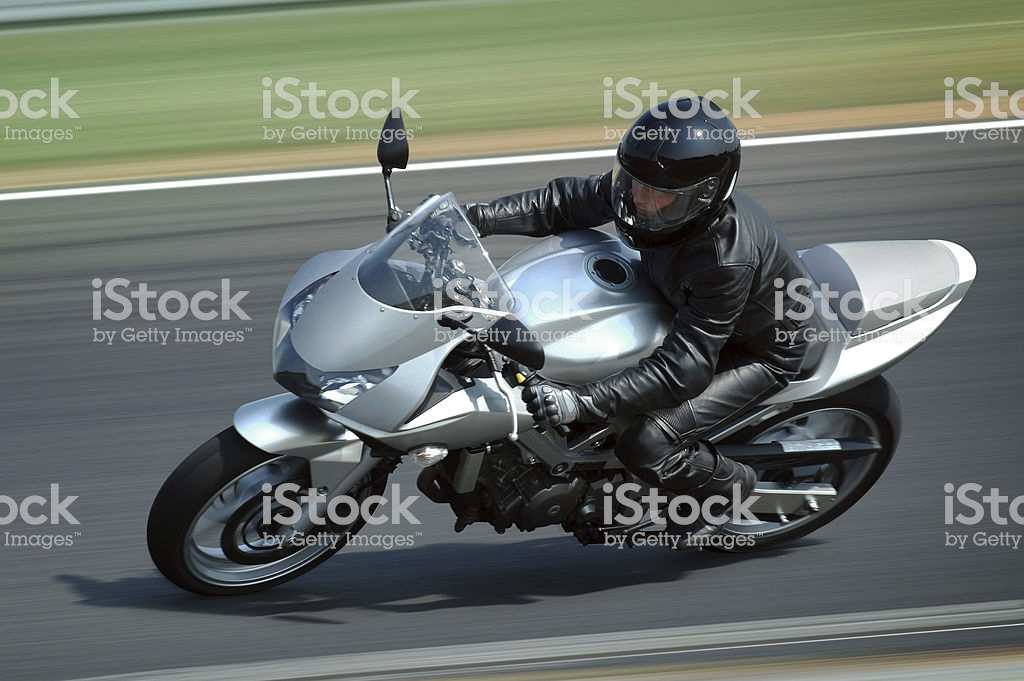helmet: (600, 104, 746, 264)
